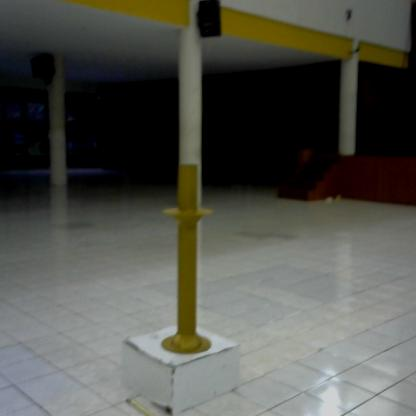pole: (159, 153, 216, 365)
